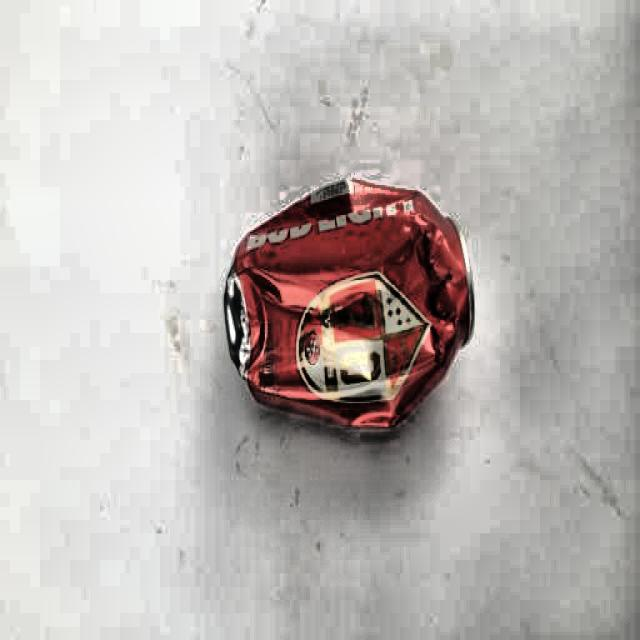metal: (219, 178, 478, 432)
